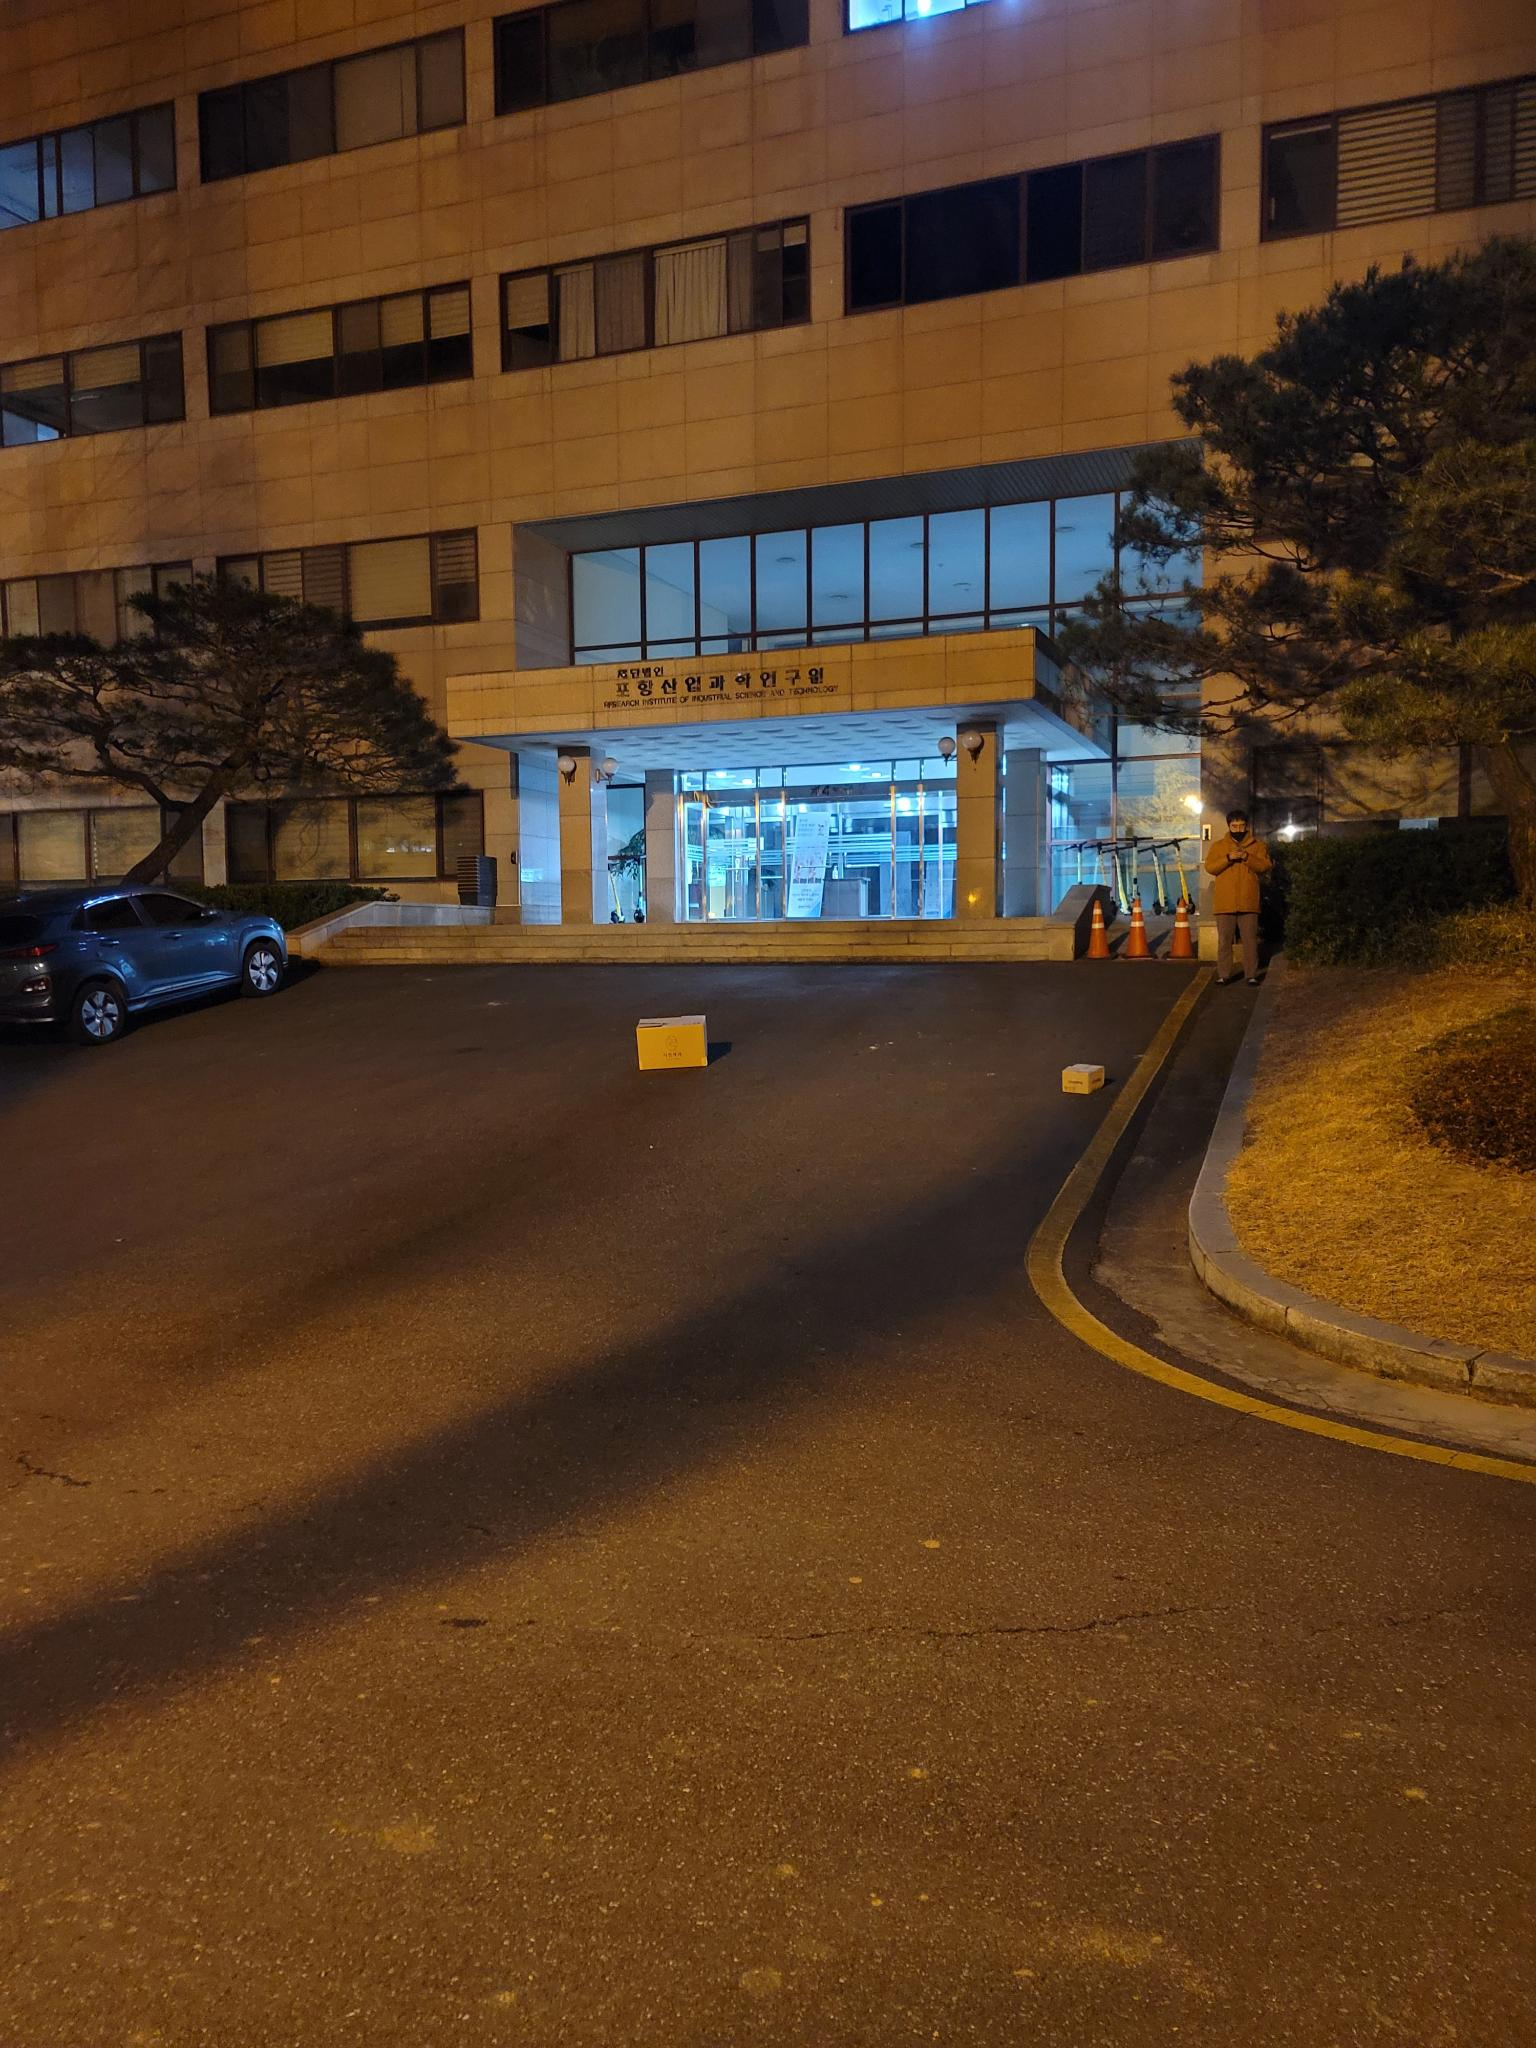Box: (629, 1005, 718, 1077), (1057, 1050, 1113, 1100)
